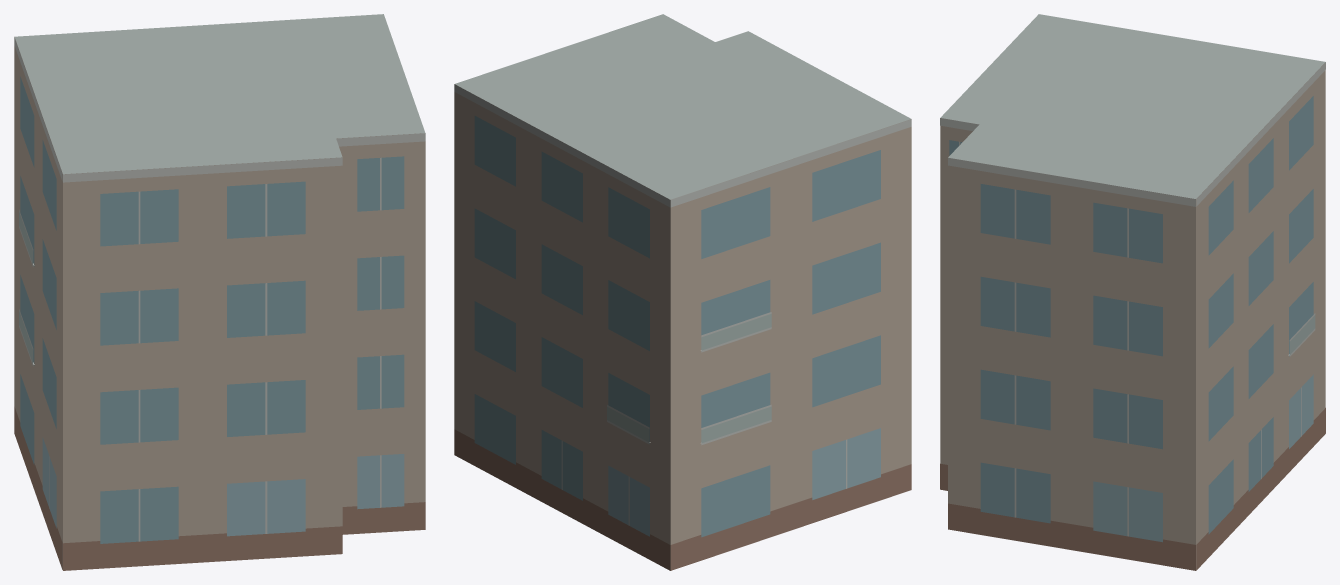
The model's file is survey-upis-32655352.glb.
The picture shows the model from 3 angles, left to right: view 1: azimuth 30°, elevation 25°; view 2: azimuth 150°, elevation 25°; view 3: azimuth 270°, elevation 25°; orthographic projection. The views are drawn at different scales.
Parts seen in each view (by area): view 1: survey-upis-32655352.tmp; view 2: survey-upis-32655352.tmp; view 3: survey-upis-32655352.tmp.
Part boxes in pixels (x1=…): survey-upis-32655352.tmp: x1=14, y1=14, x2=425, y2=570; survey-upis-32655352.tmp: x1=454, y1=14, x2=911, y2=570; survey-upis-32655352.tmp: x1=940, y1=14, x2=1325, y2=570.
Bounding box in the file's own units: 12.4 × 11.6 × 10.92.
